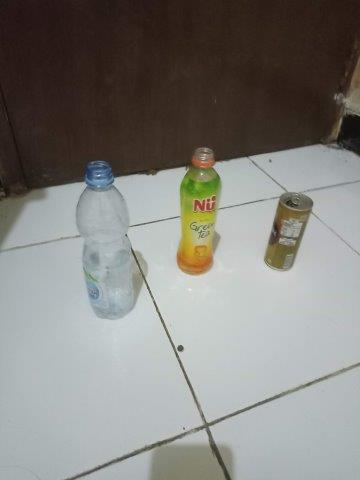botolplastik: (75, 160, 134, 321), (175, 146, 222, 276)
kaleng: (264, 191, 314, 272)
